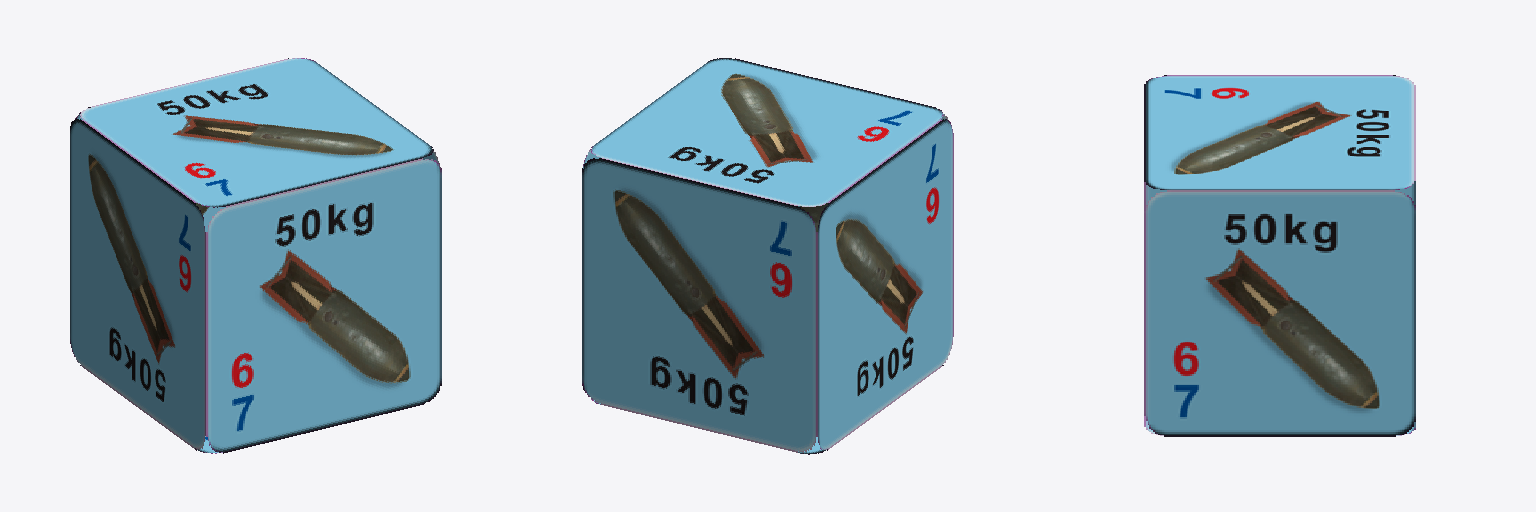
3 renders of one model, left to right at view 1: azimuth 30°, elevation 25°; view 2: azimuth 150°, elevation 25°; view 3: azimuth 270°, elevation 25°, orthographic.
Parts seen in each view (by area): view 1: Cube; view 2: Cube; view 3: Cube.
Boxes of the visible parts, x1=… form: Cube: x1=70, y1=58, x2=441, y2=453; Cube: x1=582, y1=58, x2=953, y2=454; Cube: x1=1144, y1=75, x2=1415, y2=436.
Size of the model in its own units: 2 by 2 by 2.
Materials: 1 (1 with a texture image).